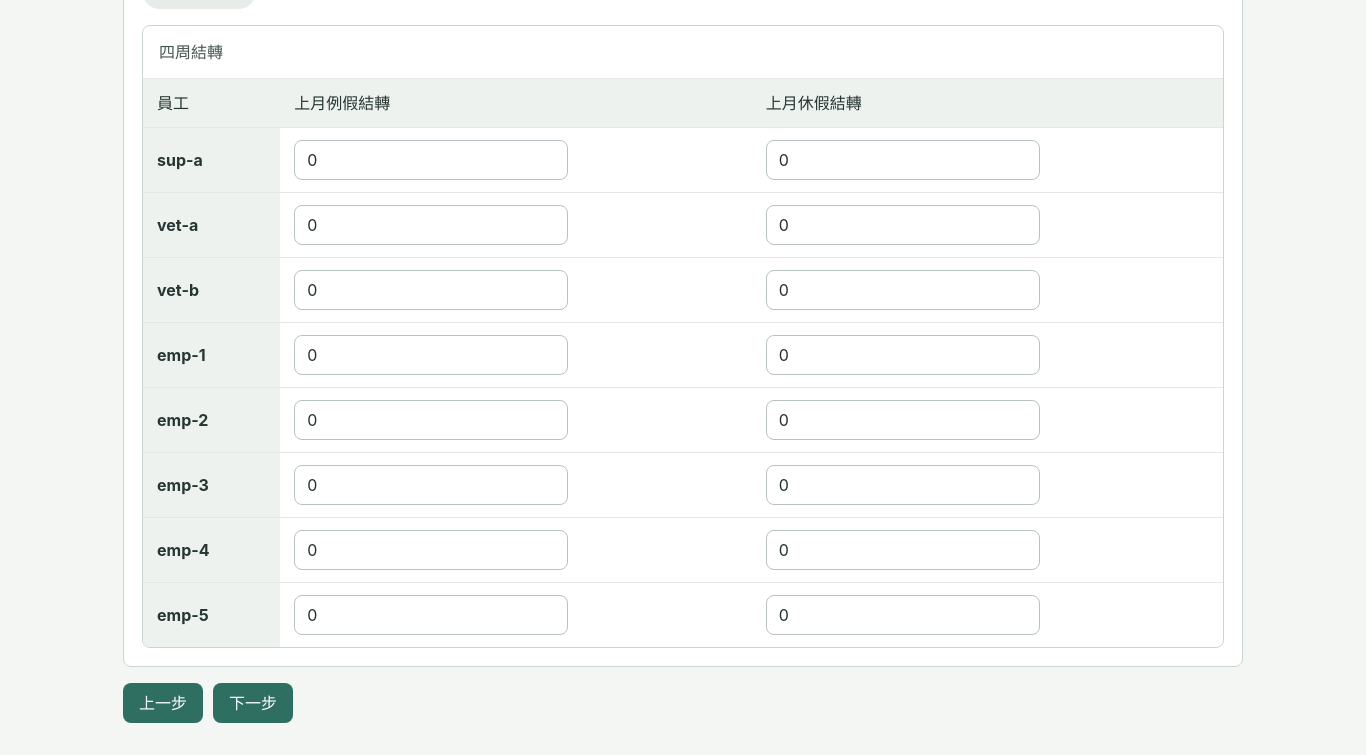
Test: App › blocks generation when fewer than two active supervisors are available
(page scrolled)
Click the button "下一步".
click(253, 703)  # box [213,683,293,723]
(page scrolled)
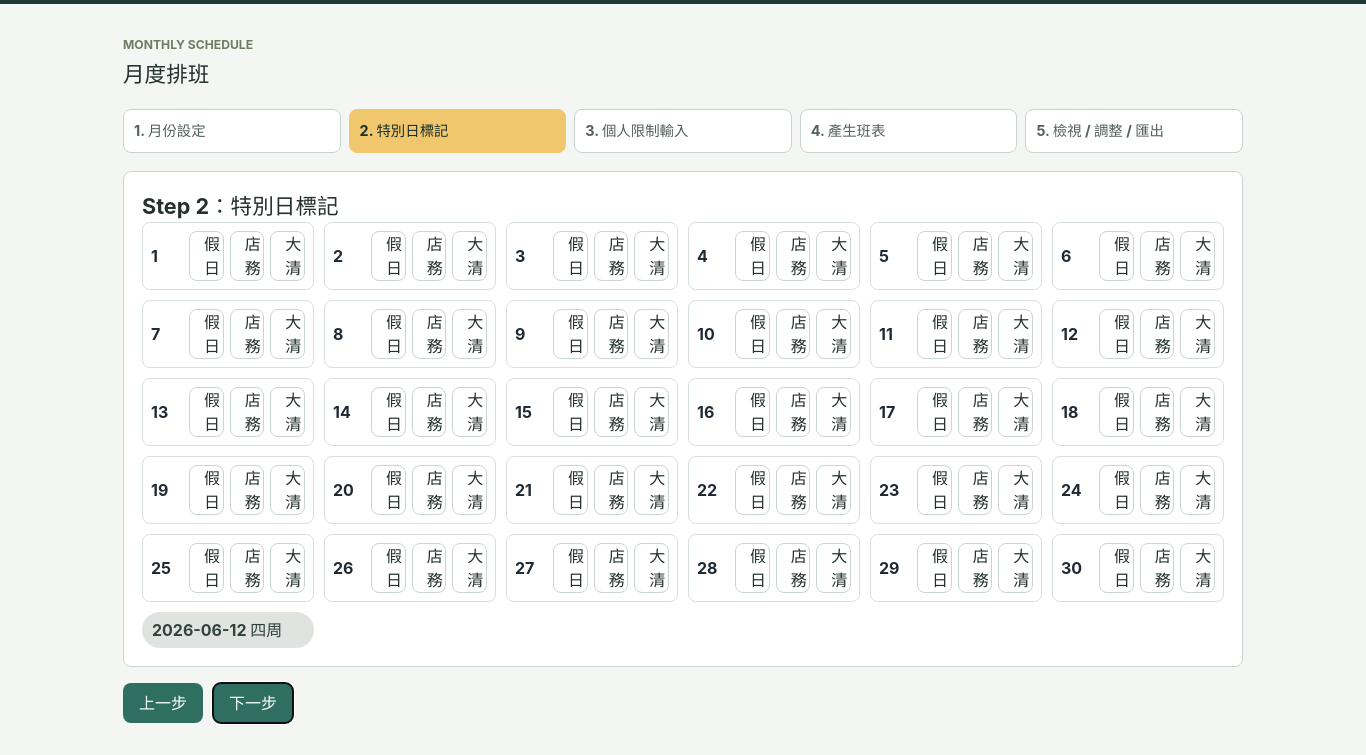
Click the button "下一步".
click(253, 703)  # box [213,683,293,723]
(page scrolled)
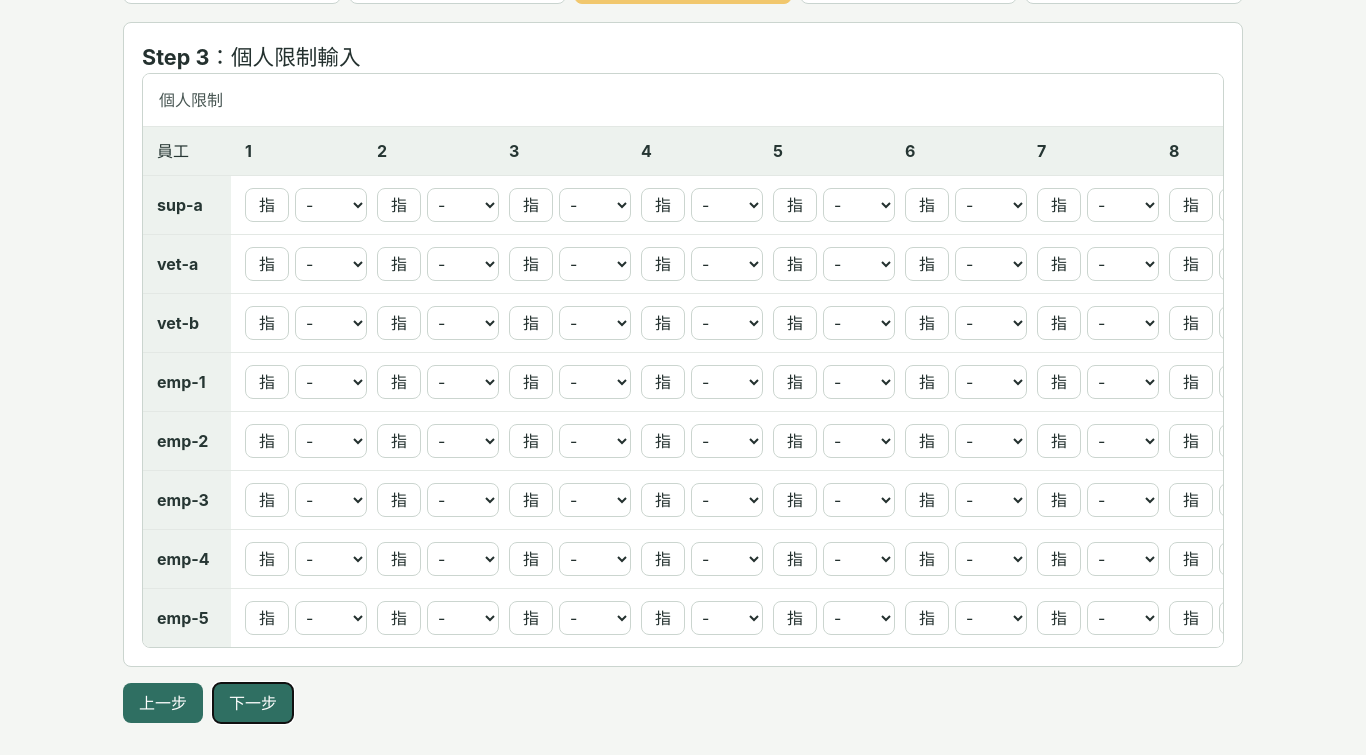
Click the button "下一步".
click(253, 703)  # box [213,683,293,723]
(page scrolled)
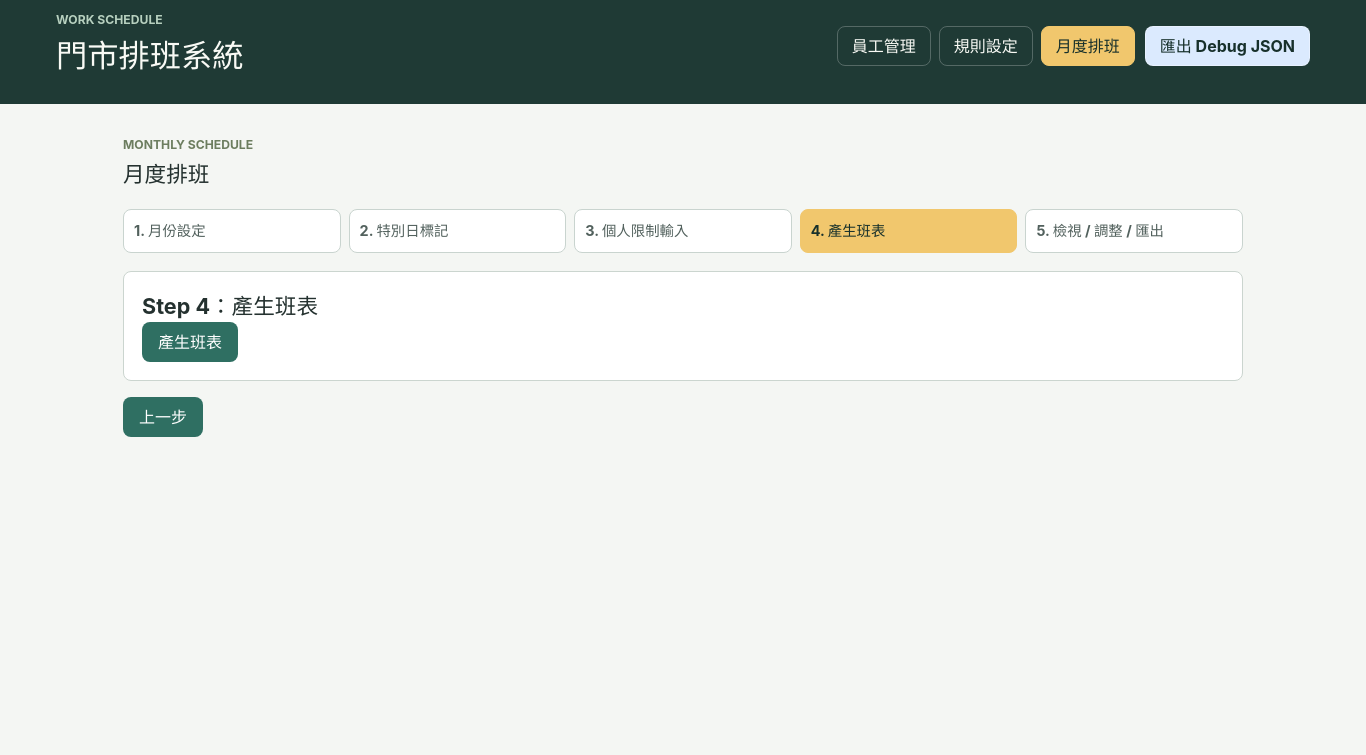
Click the button "產生班表".
click(190, 342)  # box [142,322,238,362]
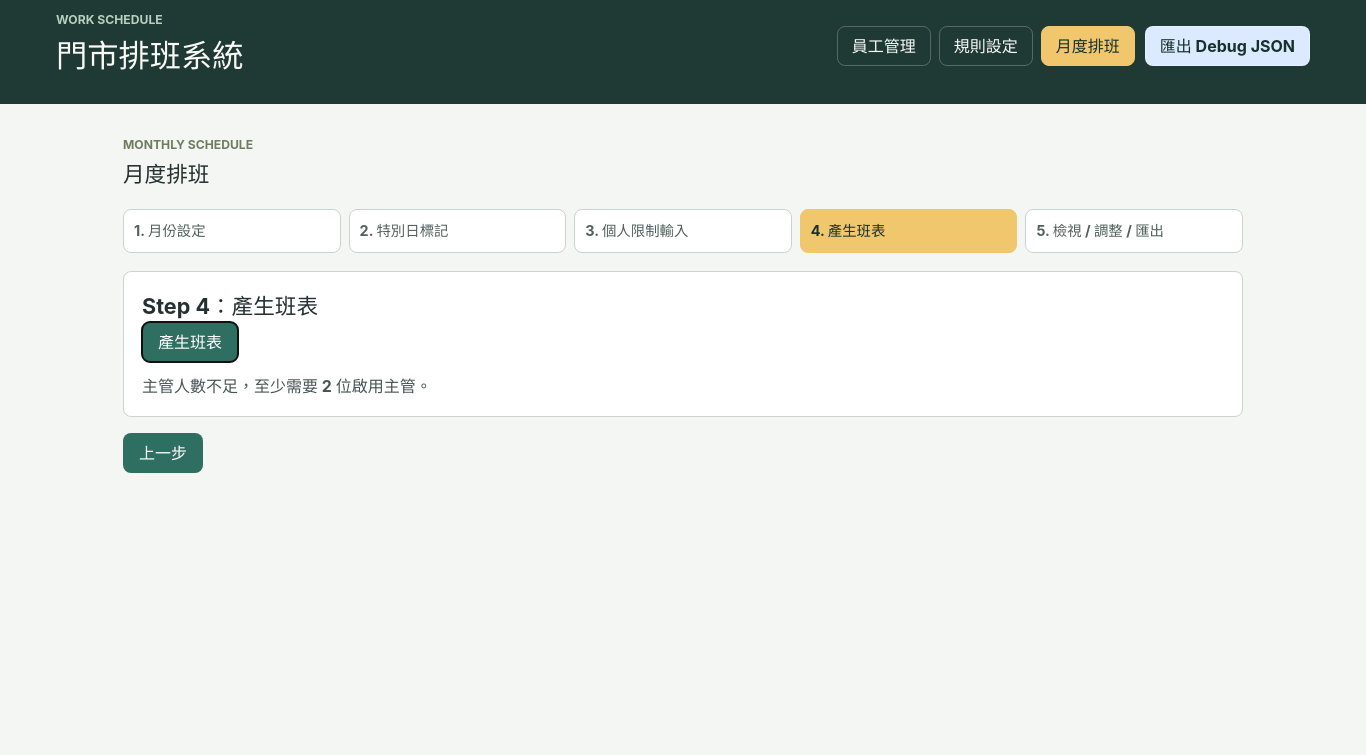
Now the heading "Step 4：產生班表" is shown, box [142,293,318,319]
Now the text "主管人數不足，至少需要 2 位啟用主管。" is shown, box [142,374,432,398]
